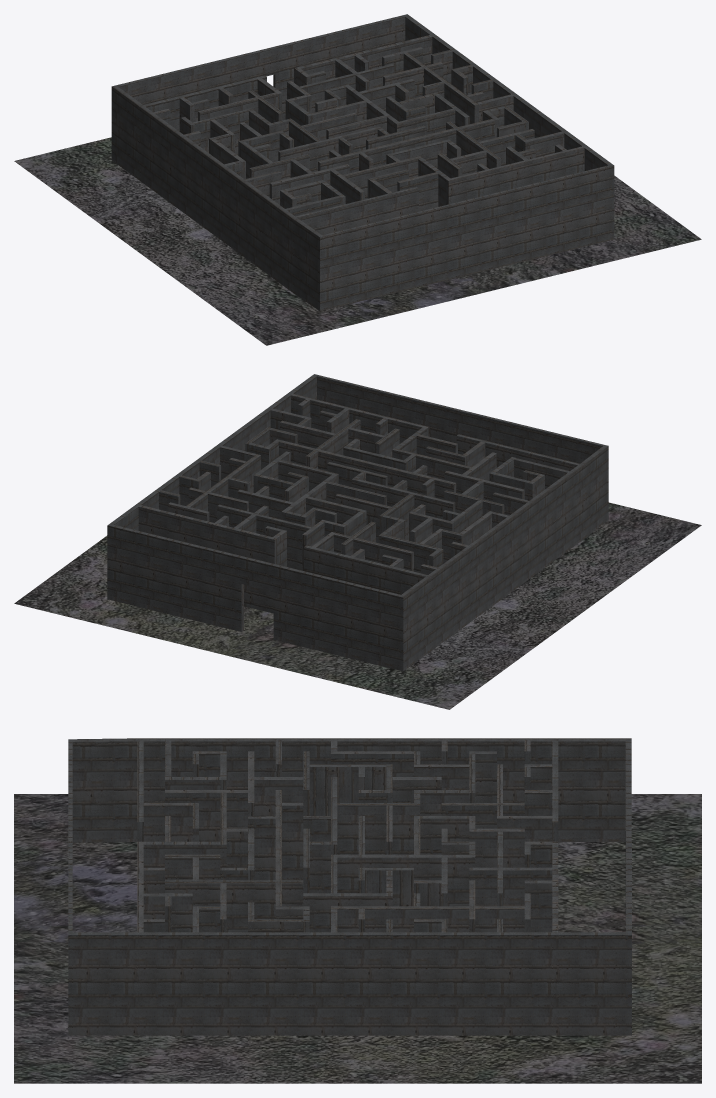
The model's file is Maze_Two.glb.
The picture shows the model from 3 angles, top to bottom: view 1: azimuth 30°, elevation 25°; view 2: azimuth 150°, elevation 25°; view 3: azimuth 270°, elevation 25°; orthographic projection. The views are drawn at different scales.
Visible parts, largest first — view 1: Maze_Two; view 2: Maze_Two; view 3: Maze_Two.
Boxes of the visible parts, x1,y1,x2,y2 form: Maze_Two: (14, 14, 701, 345); Maze_Two: (14, 374, 701, 709); Maze_Two: (14, 738, 701, 1083).
Size of the model in its own units: 103 by 17.23 by 104.
2 materials, 2 textured.
